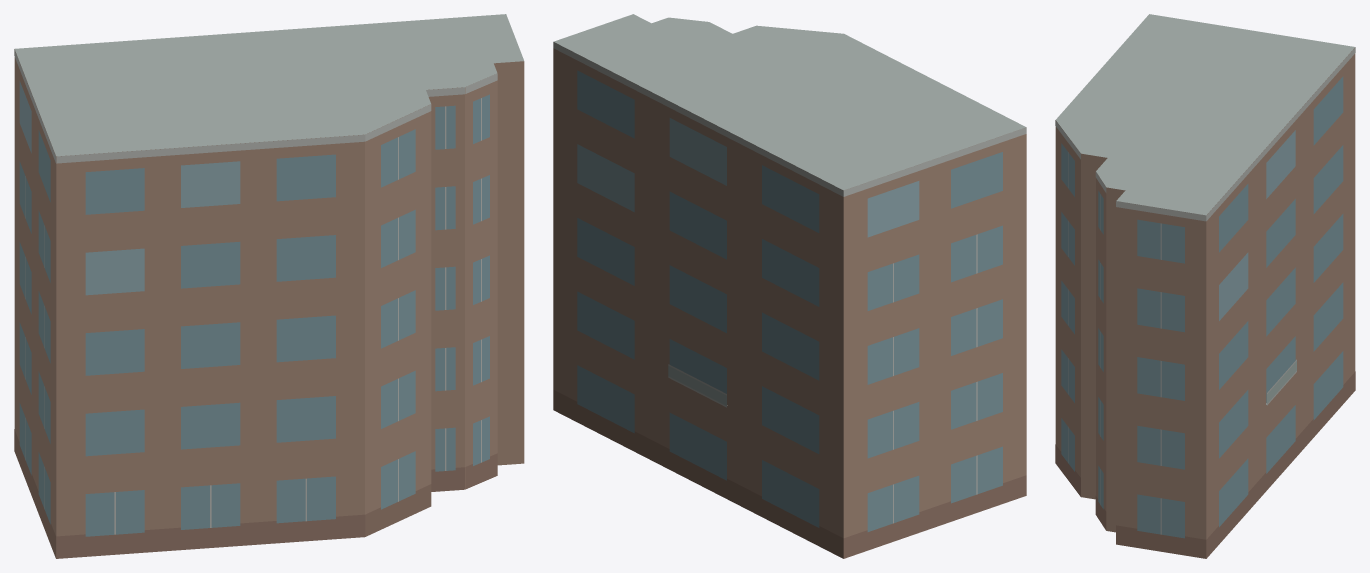
Rendered from survey-upis-32935063.glb.
3 views of the same model, side by side, from view 1: azimuth 30°, elevation 25°; view 2: azimuth 150°, elevation 25°; view 3: azimuth 270°, elevation 25° (orthographic). The views are drawn at different scales.
Parts seen in each view (by area): view 1: survey-upis-32935063.tmp; view 2: survey-upis-32935063.tmp; view 3: survey-upis-32935063.tmp.
Part boxes in pixels (x1=…): survey-upis-32935063.tmp: x1=14, y1=14, x2=524, y2=558; survey-upis-32935063.tmp: x1=553, y1=14, x2=1026, y2=558; survey-upis-32935063.tmp: x1=1055, y1=14, x2=1355, y2=558.
Size of the model in its own units: 17.36 by 13.8 by 10.92.
